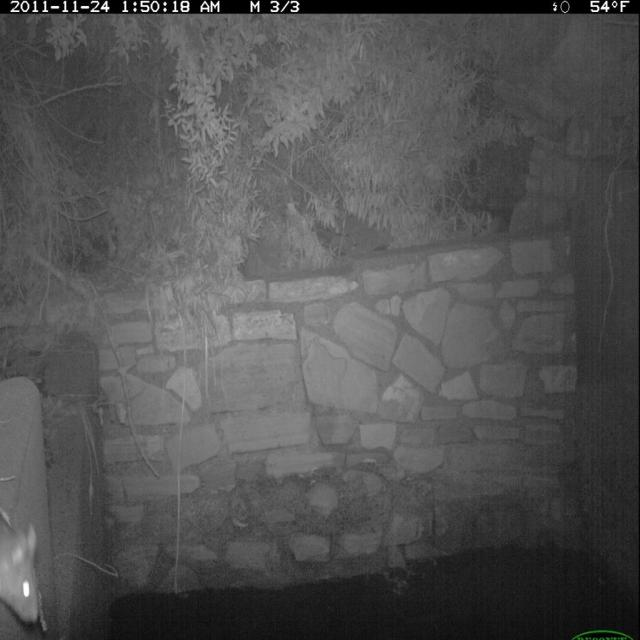rodent: (1, 514, 48, 638)
